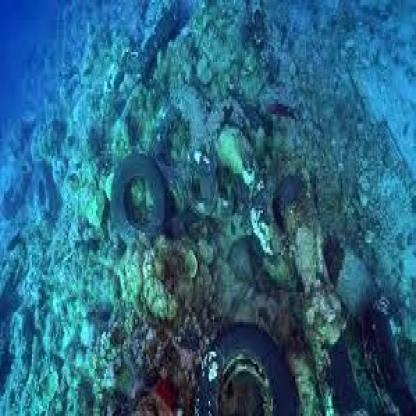tire: (208, 302, 290, 416), (110, 146, 172, 248), (182, 158, 226, 228)
